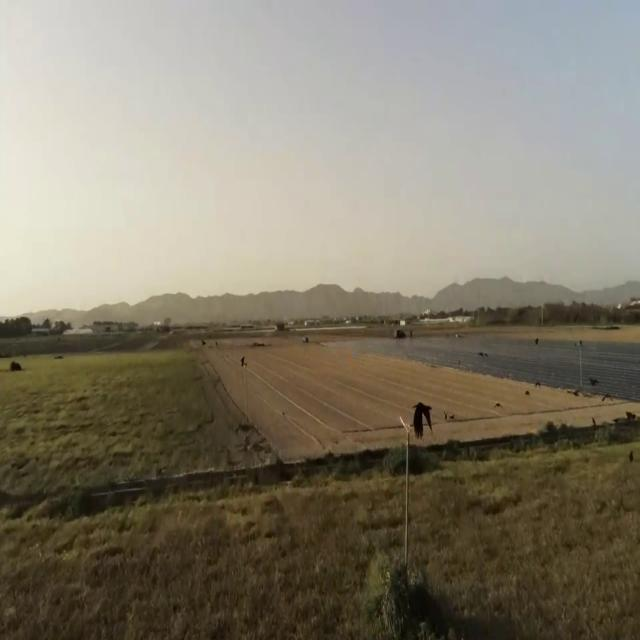bird: (412, 392, 431, 442), (588, 371, 600, 389)
